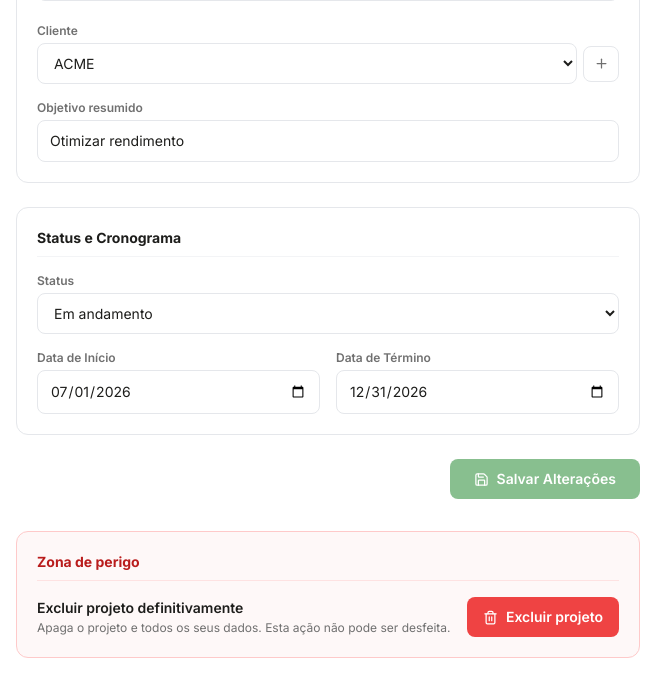
Test: ProjectSettingsClient › should reject an end date earlier than the start date
(page scrolled)
Type "2026-06-01" into the date field labelled "Data de Término" at {"x": 478, "y": 392}, box 336,370 -> 619,414
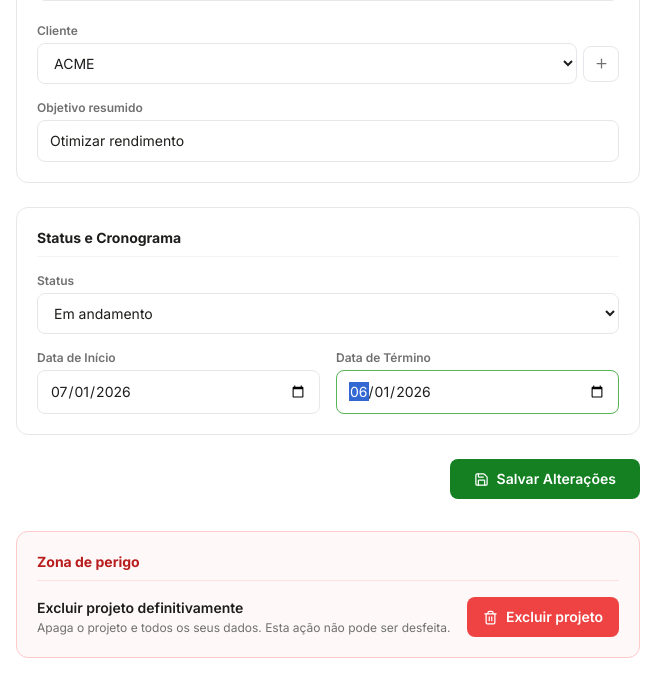
Click the button "Salvar Alterações" at {"x": 545, "y": 479}, box 450,459 -> 640,499
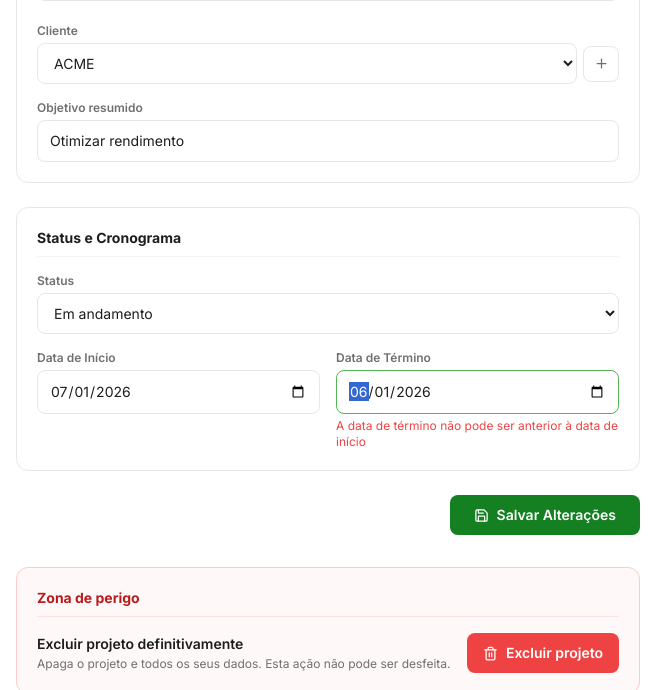
expect the text "A data de término não pode ser anterior à data de início" is shown: met, box 336,418 -> 619,450
